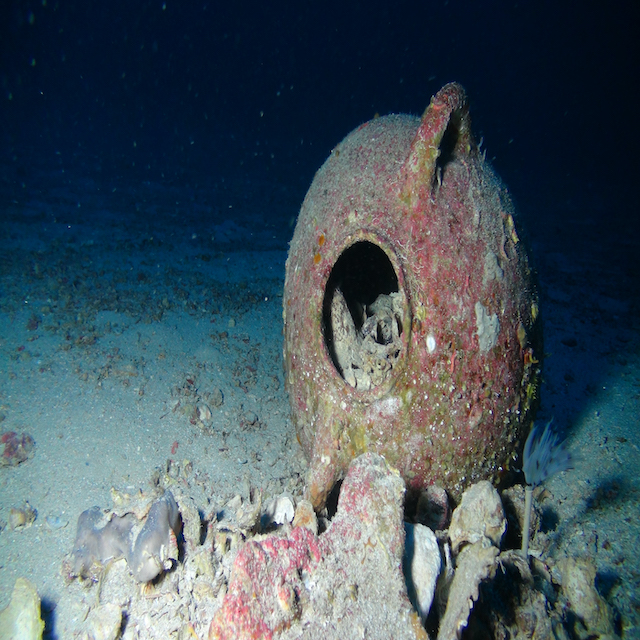amphora: (270, 77, 545, 514)
